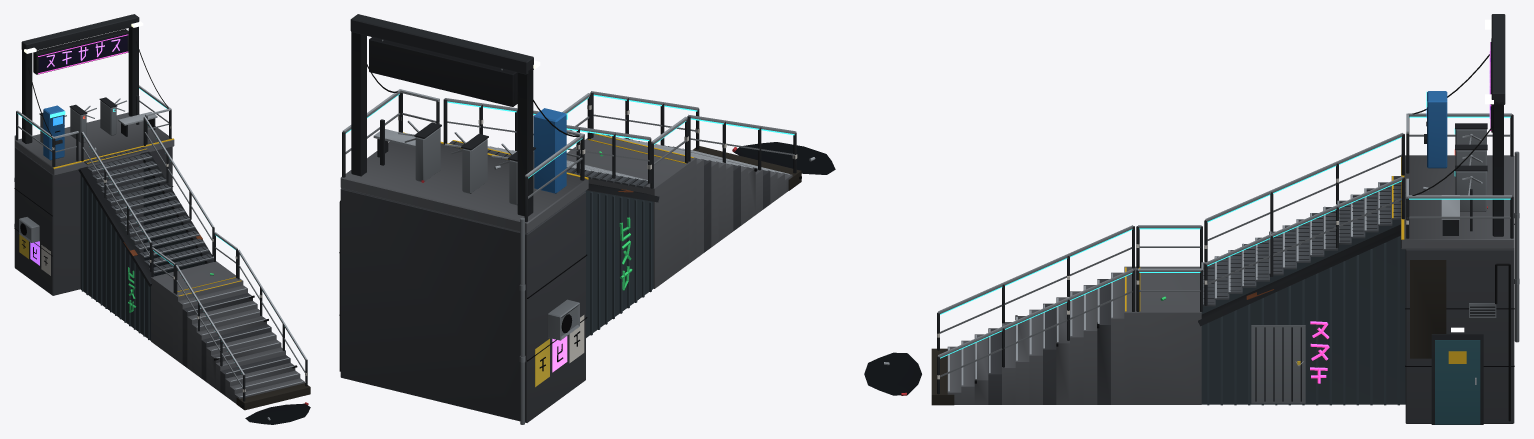
File: cp_stairs.glb
3 renders of one model, left to right at view 1: azimuth 30°, elevation 25°; view 2: azimuth 150°, elevation 25°; view 3: azimuth 270°, elevation 25°, orthographic. The views are drawn at different scales.
Visible parts, largest first — view 1: cp_stairs, part_sign, part_litter.001; view 2: cp_stairs, part_sign, part_litter.001; view 3: cp_stairs, part_door, part_litter.001.
Boxes of the visible parts, <box> form: cp_stairs: <box>14,14,310,410</box>; part_sign: <box>33,29,128,74</box>; part_litter.001: <box>94,147,310,424</box>; cp_stairs: <box>339,14,801,424</box>; part_sign: <box>369,37,517,106</box>; part_litter.001: <box>421,142,835,182</box>; cp_stairs: <box>931,14,1519,424</box>; part_door: <box>1435,340,1480,424</box>; part_litter.001: <box>864,187,1487,395</box>.
Size of the model in its own units: 4.86 by 8 by 14.46.
